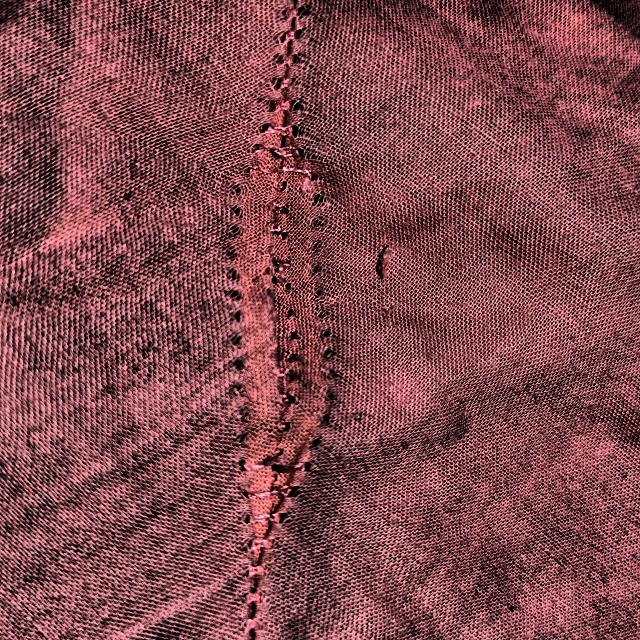seam: (181, 54, 382, 609)
